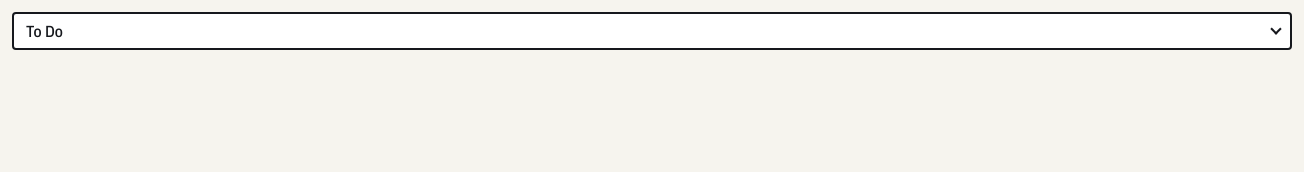
it: Combobox create option › offers Create for a new name after the matches, and Enter on it creates (trimmed)
Replace the text in the dropdown named "Lane for Design" with "  Design " at [652, 31], box 12,12 -> 1292,50
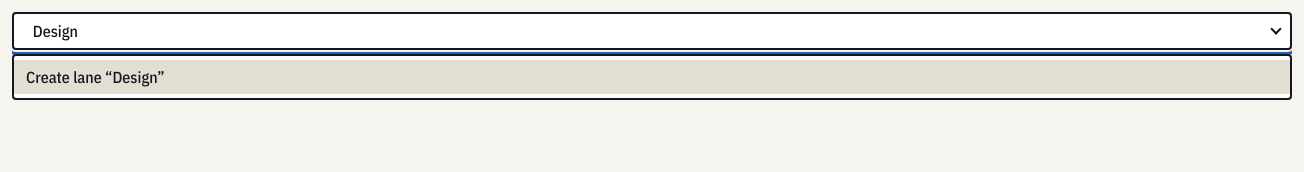
Press Enter
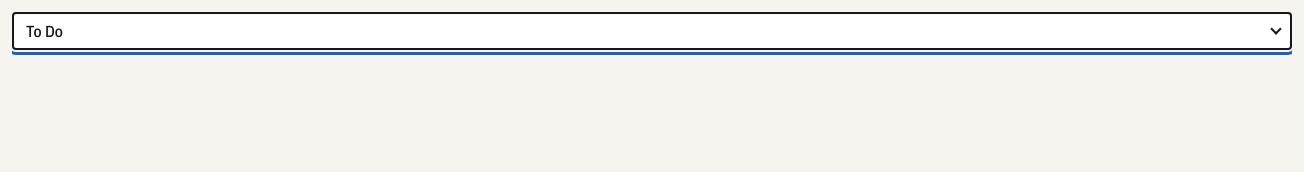
Expected: the list is gone
